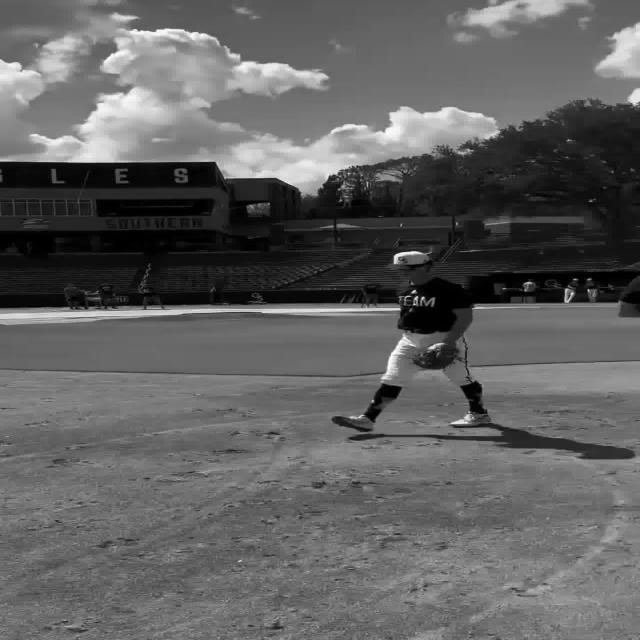baseball_glove: (413, 342, 458, 370)
shoe: (331, 415, 376, 432), (449, 412, 491, 428)
